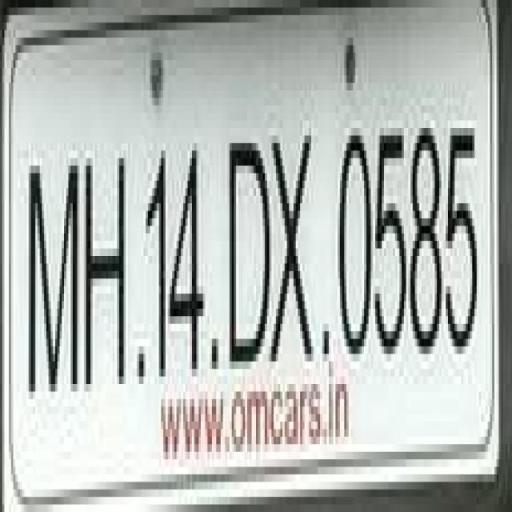number plate: (0, 0, 492, 482)
